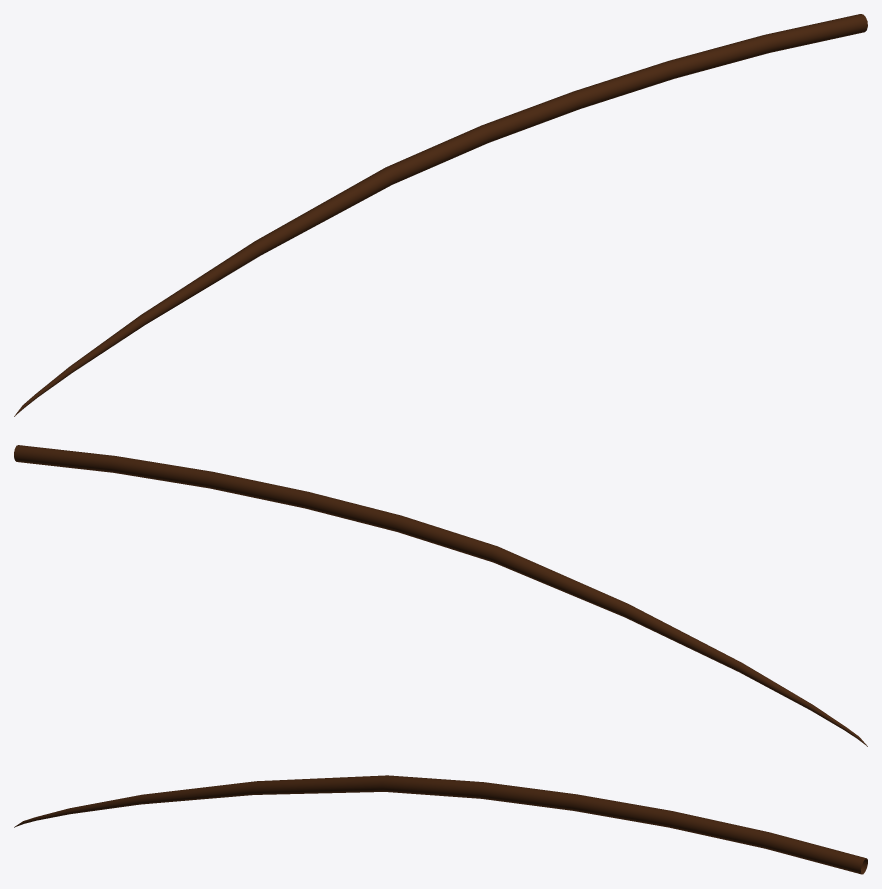
3 renders of one model, top to bottom at view 1: azimuth 30°, elevation 25°; view 2: azimuth 150°, elevation 25°; view 3: azimuth 330°, elevation 25°, orthographic. The views are drawn at different scales.
Parts seen in each view (by area): view 1: BézierCurve; view 2: BézierCurve; view 3: BézierCurve.
Boxes of the visible parts, x1,y1,x2,y2 form: BézierCurve: (14, 14, 867, 416); BézierCurve: (14, 445, 867, 746); BézierCurve: (14, 775, 867, 874).
Size of the model in its own units: 2.69 by 0.4614 by 0.2707.
